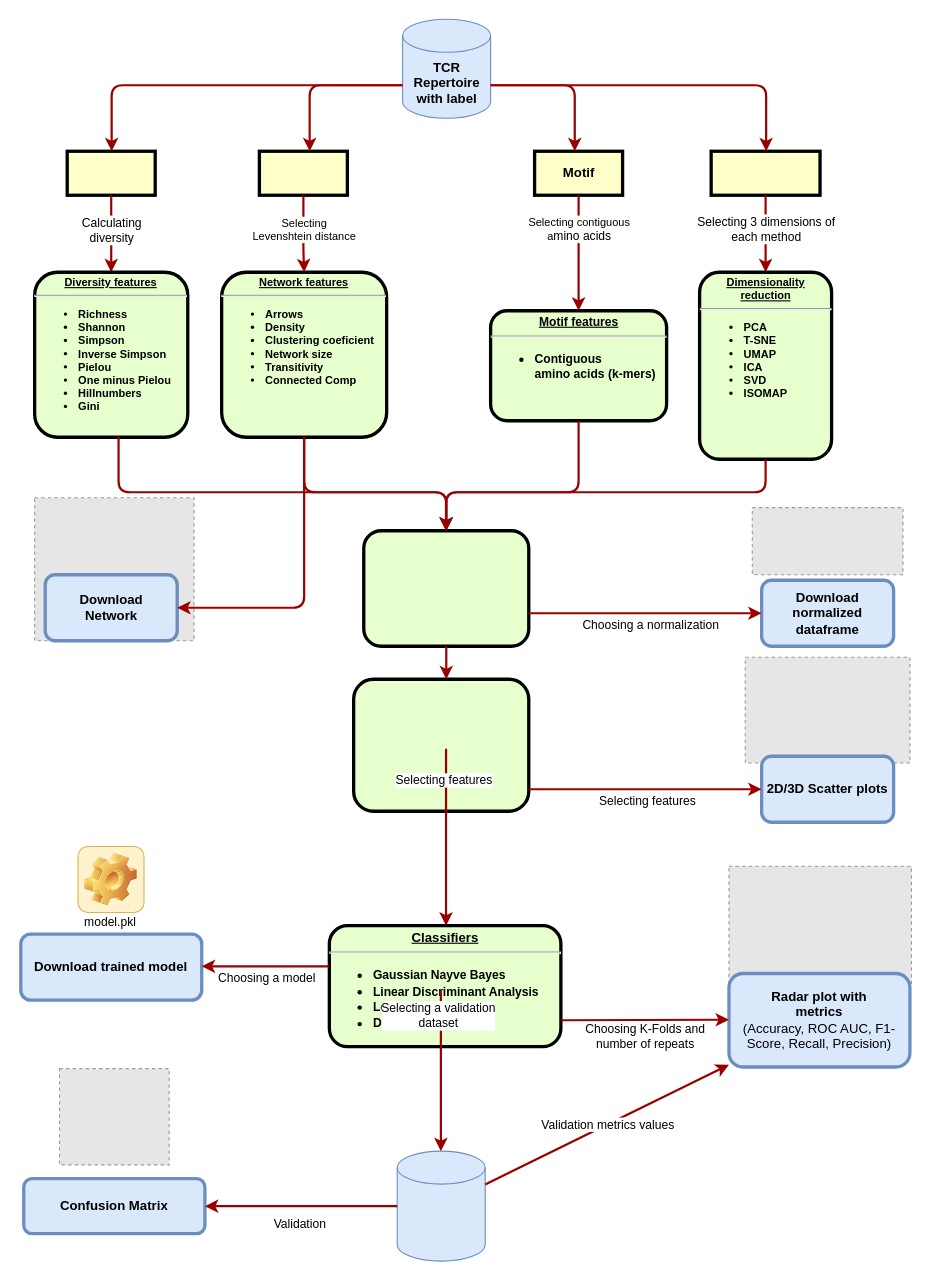
Image size: 931x1280. Some labels were removed from this diagram. Grey dashed boxes stand in for pictures. Each missing label, with the centre of its shape:
"Dimensionality reduction" goes at (x=765, y=172).
"Diversity" goes at (x=110, y=172).
"Feature selection methods Pearson Ridge XGBoost mRMR" goes at (x=440, y=744).
"Holdout data of TCR Repertoire with label" goes at (x=440, y=1205).
"Network" goes at (x=302, y=172).
"Normalization Not normalized Standard Scaler Min-Max Scaler Robust Scaler" goes at (x=446, y=588).
